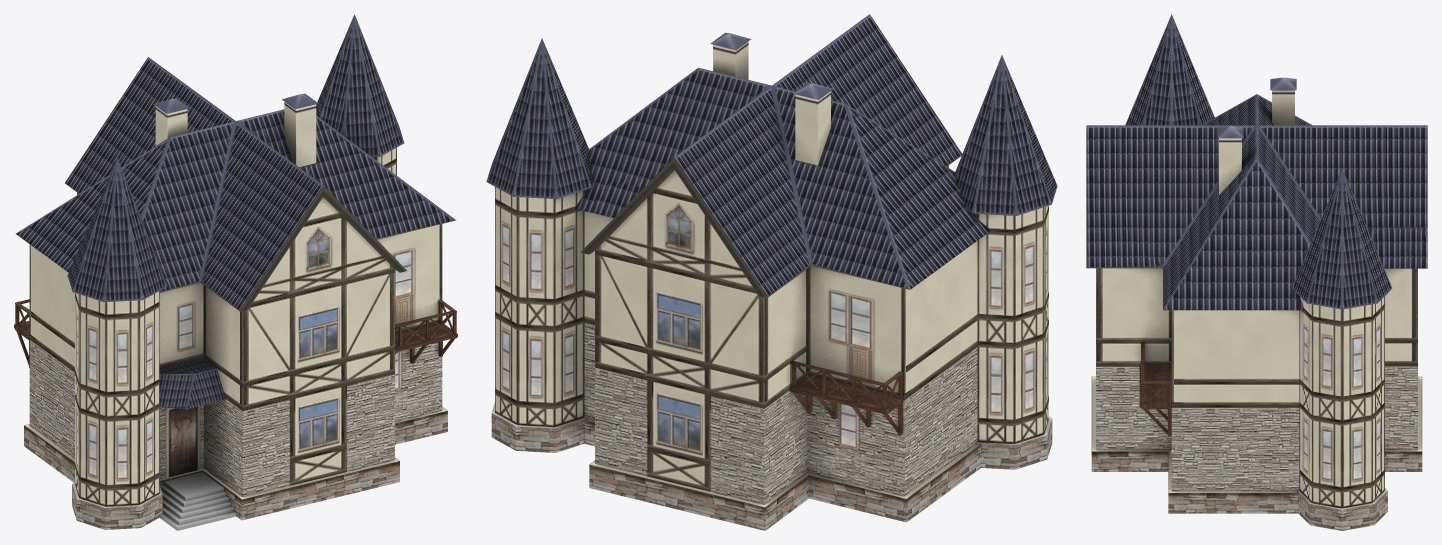
The picture shows the model from 3 angles, left to right: view 1: azimuth 30°, elevation 25°; view 2: azimuth 150°, elevation 25°; view 3: azimuth 270°, elevation 25°; orthographic projection. The views are drawn at different scales.
Parts seen in each view (by area): view 1: House_008; view 2: House_008; view 3: House_008.
Boxes of the visible parts, x1=… form: House_008: x1=14, y1=14, x2=457, y2=530; House_008: x1=486, y1=14, x2=1057, y2=530; House_008: x1=1086, y1=14, x2=1427, y2=530.
Bounding box in the file's own units: 2.54 × 2.07 × 1.87.
Materials: 1 (1 with a texture image).
